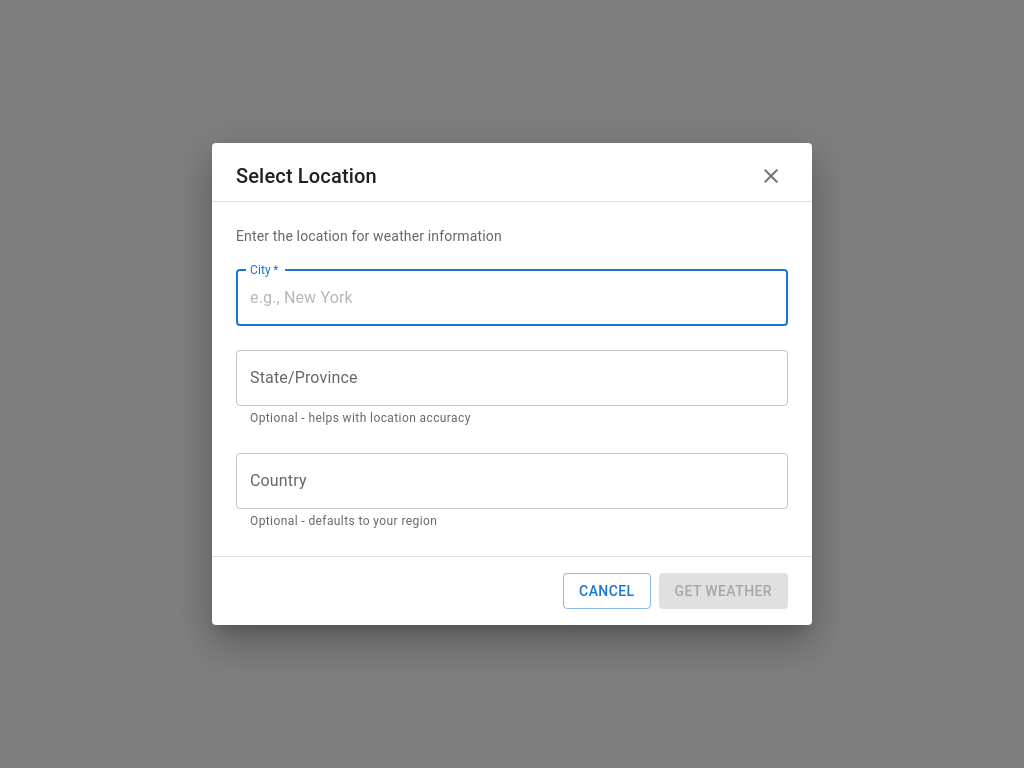
Test: CitySelectionDialog › Form Validation › should show country minimum length error
The image size is (1024, 768).
Type "A" into the field labelled "Country" at (512, 481), box left=236, top=453, right=788, bottom=509
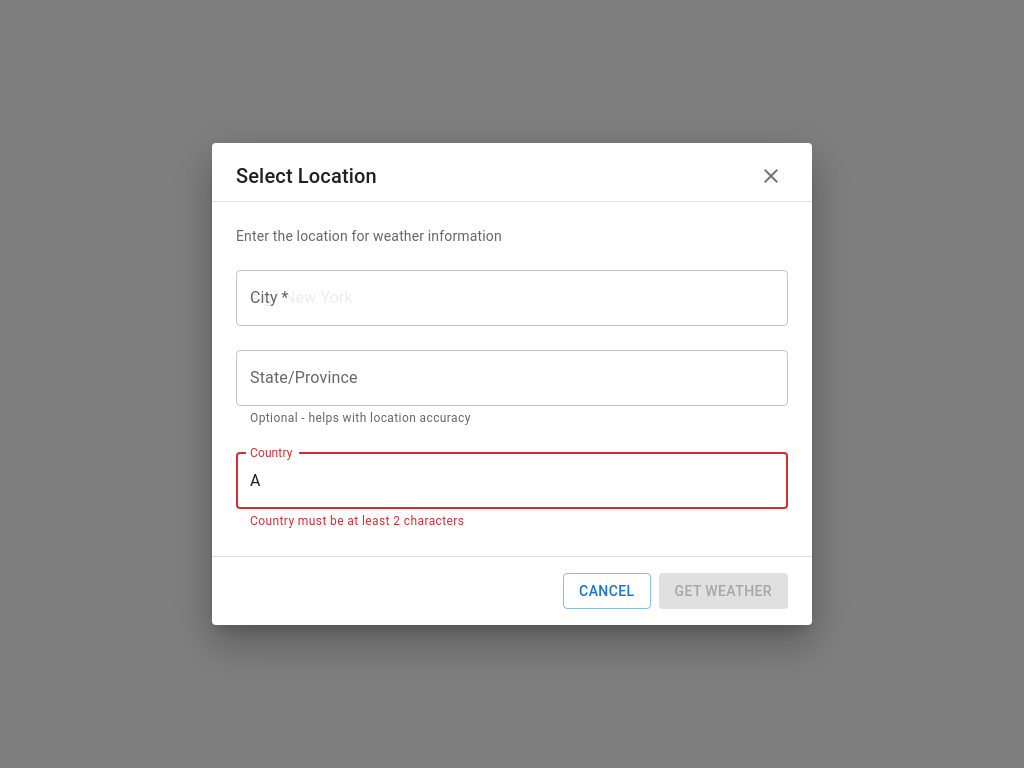
Expected: the text "Country must be at least 2 characters" is shown, left=250, top=514, right=464, bottom=528
